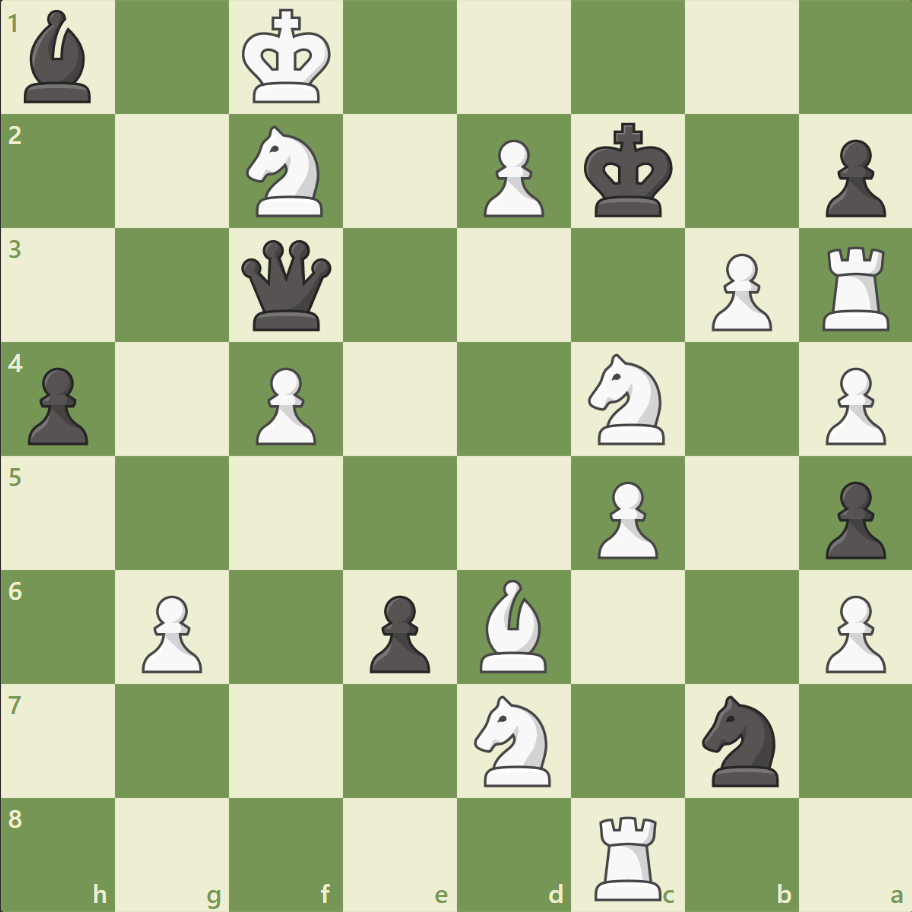B: (471, 574, 555, 676)
K: (238, 4, 338, 112)
N: (465, 688, 562, 791), (579, 348, 676, 450), (238, 121, 335, 223)
P: (133, 586, 208, 677), (247, 359, 322, 450), (701, 246, 776, 337), (474, 132, 549, 223), (815, 586, 889, 677), (588, 473, 662, 564), (815, 359, 889, 450)
R: (587, 806, 670, 904), (814, 239, 897, 336)
b: (17, 6, 101, 109)
k: (579, 117, 679, 225)
n: (692, 688, 789, 791)
p: (20, 359, 95, 450), (361, 586, 435, 677), (815, 473, 889, 564), (815, 132, 889, 223)
q: (237, 236, 336, 335)
